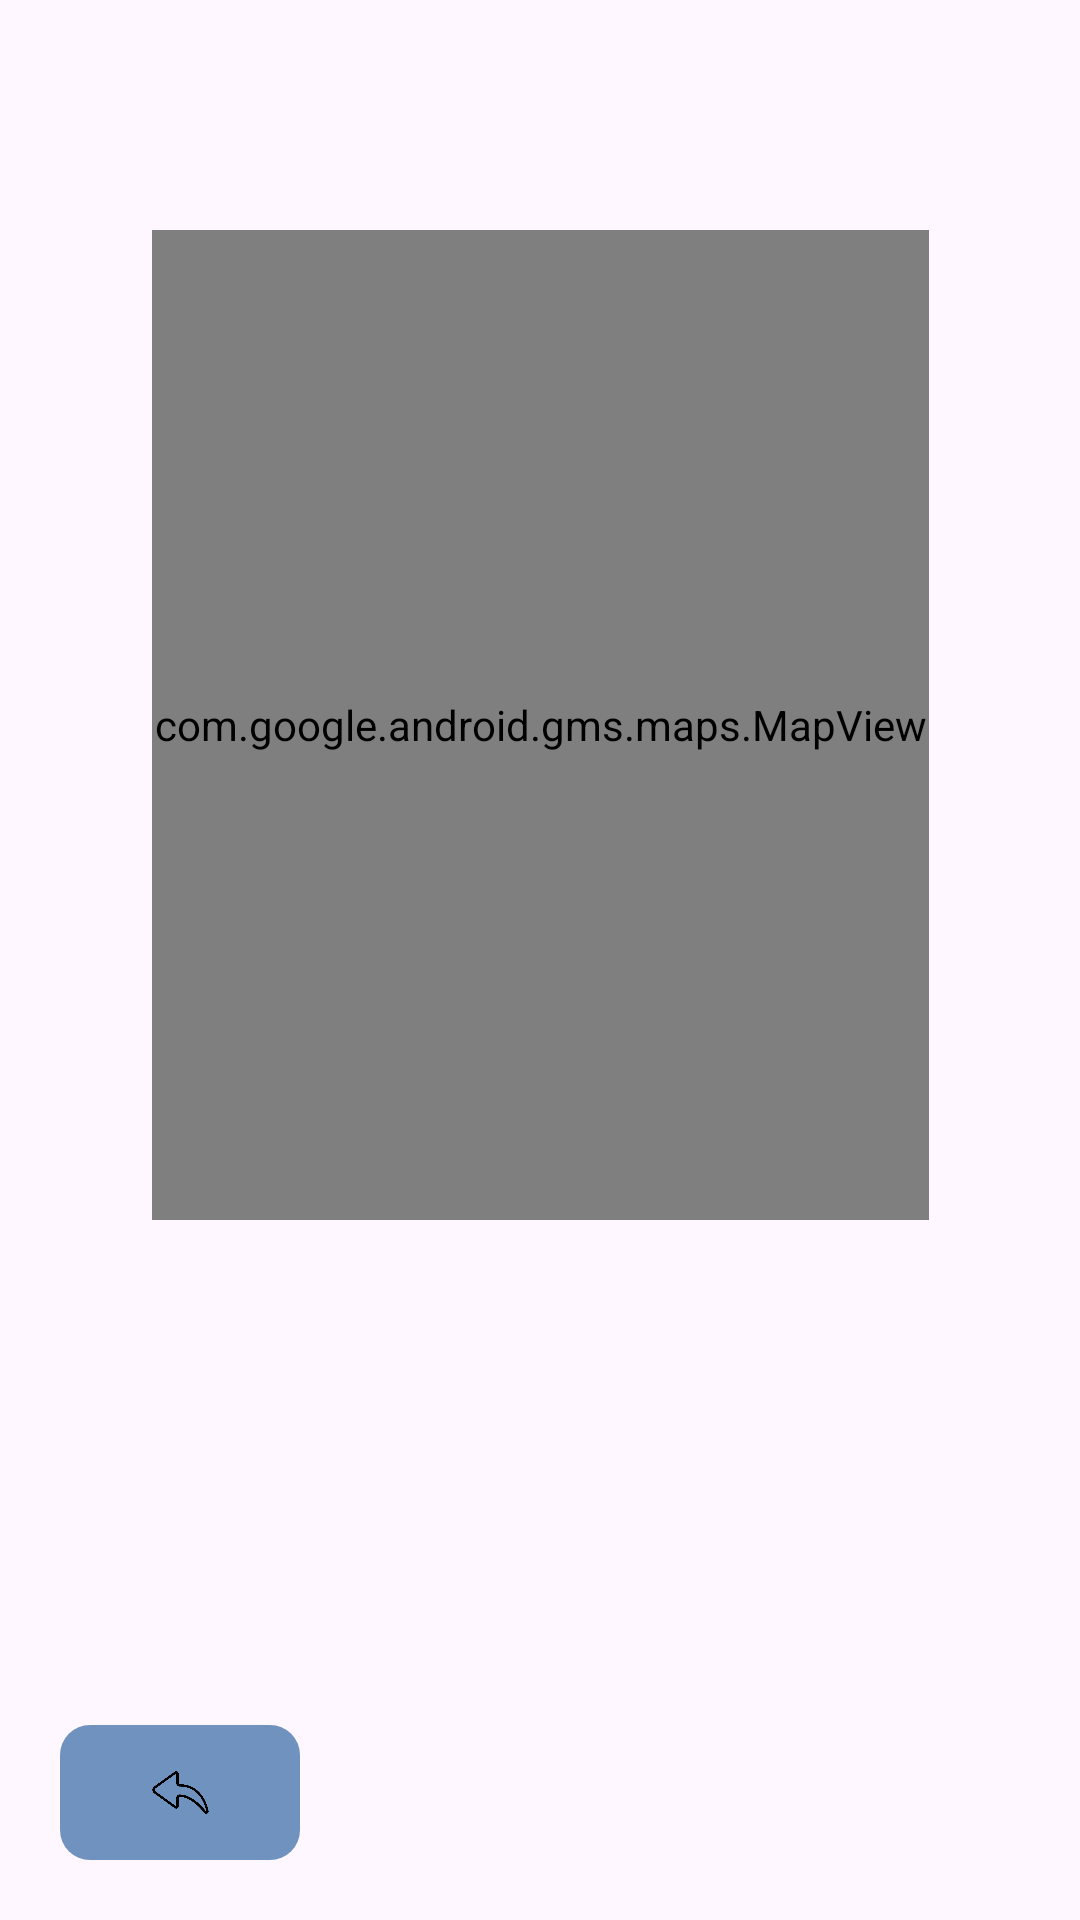

Icon click points for this 1080 x 1920 phone screenshot, format (x=x, y=y):
flechavolveratras: (x=180, y=1792)
